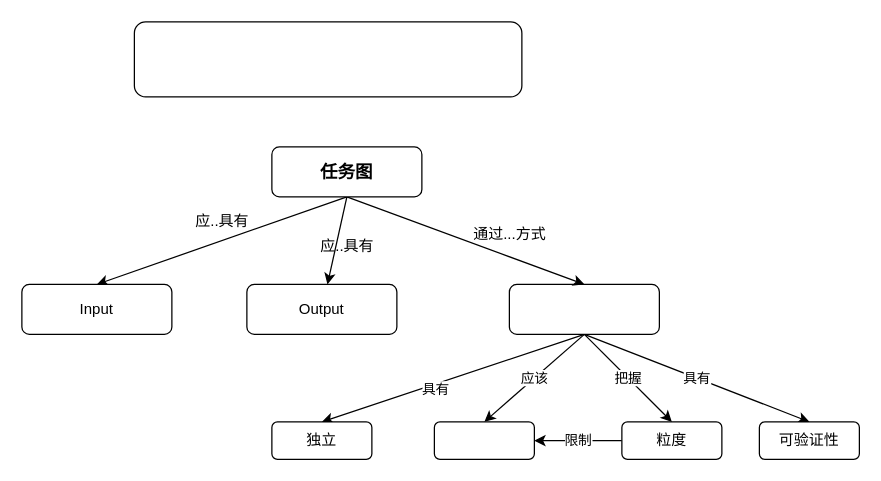
Some shapes in this 881 by 481 pixel diagram are drawn without their labels. The centre of each missing label's shape, as x and y in pixels:
"Focusion Quesion:任务图如何画？" goes at (327,59).
"任务拆解" goes at (583,308).
"穷尽" goes at (483,440).
